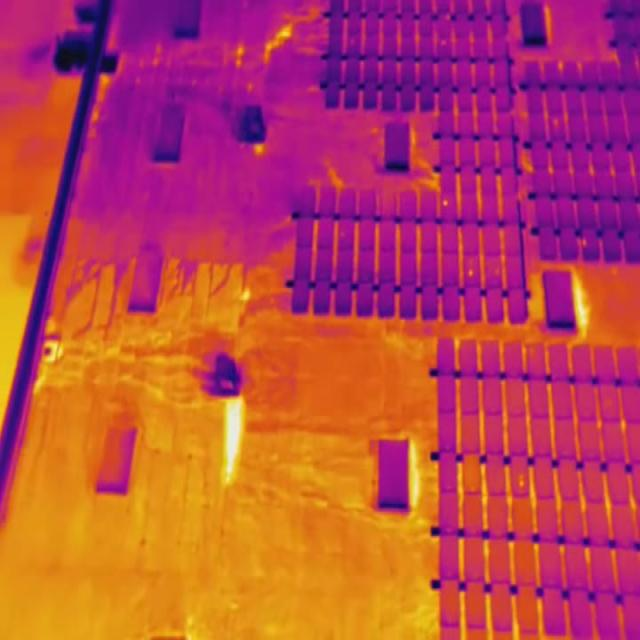Orange-Spots: (519, 474, 524, 488), (443, 200, 448, 207), (554, 119, 559, 126), (469, 269, 473, 277), (582, 240, 586, 246), (496, 269, 499, 275)
